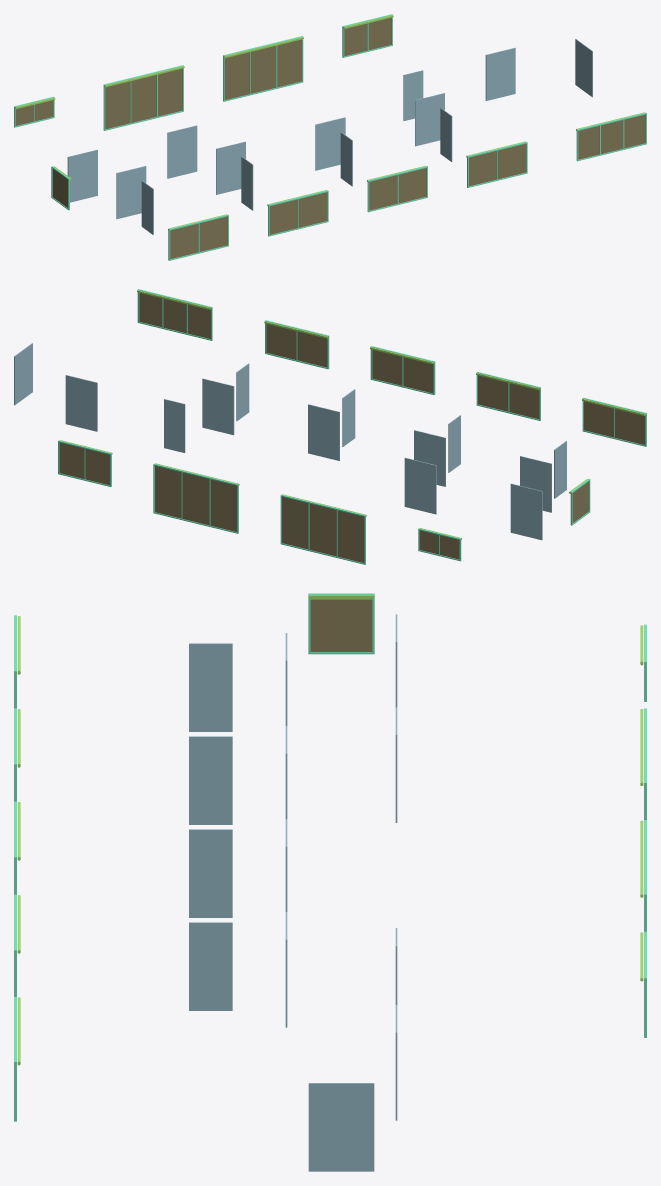
File: structure.glb
The picture shows the model from 3 angles, top to bottom: view 1: azimuth 30°, elevation 25°; view 2: azimuth 150°, elevation 25°; view 3: azimuth 270°, elevation 25°; orthographic projection. The views are drawn at different scales.
Visible parts, largest first — view 1: FEN21_N, FEN22_N, FEN19_S, FEN18_S, FEN15_S, FEN16_S, FEN17_S, FEN23_N, PORTE11, PORTE14, PORTE10, PORTE3 (+11 smaller); view 2: FEN22_N, FEN21_N, FEN19_S, FEN17_S, FEN18_S, FEN15_S, FEN16_S, FEN23_N, PORTE14, PORTE4, PORTE10, PORTE11 (+11 smaller); view 3: ENT0_E, FEN24_W, PORTE5, PORTE6, PORTE7, PORTE8.
Boxes of the visible parts, x1,y1,x2,y2 form: FEN21_N: (103, 65, 184, 130); FEN22_N: (223, 36, 303, 101); FEN19_S: (576, 112, 646, 161); FEN18_S: (466, 141, 527, 187); FEN15_S: (168, 214, 228, 260); FEN16_S: (267, 190, 328, 236); FEN17_S: (367, 165, 427, 212); FEN23_N: (342, 14, 393, 57); PORTE11: (167, 125, 197, 178); PORTE14: (485, 47, 515, 100); PORTE10: (67, 149, 97, 202); PORTE3: (315, 117, 345, 170); FEN22_N: (153, 463, 239, 533); FEN21_N: (280, 494, 366, 564); FEN19_S: (137, 289, 212, 340); FEN17_S: (370, 346, 435, 394); FEN18_S: (264, 320, 329, 369); FEN15_S: (582, 397, 646, 446); FEN16_S: (476, 371, 540, 420); FEN23_N: (58, 440, 112, 486); PORTE14: (65, 375, 97, 431); PORTE4: (202, 378, 234, 435); PORTE10: (510, 483, 542, 540); PORTE11: (404, 457, 436, 514); ENT0_E: (308, 1083, 374, 1171); FEN24_W: (308, 593, 374, 654); PORTE5: (189, 643, 232, 731); PORTE6: (189, 736, 232, 824); PORTE7: (189, 829, 232, 917); PORTE8: (189, 922, 232, 1010).
Size of the model in its own units: 26.35 by 2.21 by 14.38.
